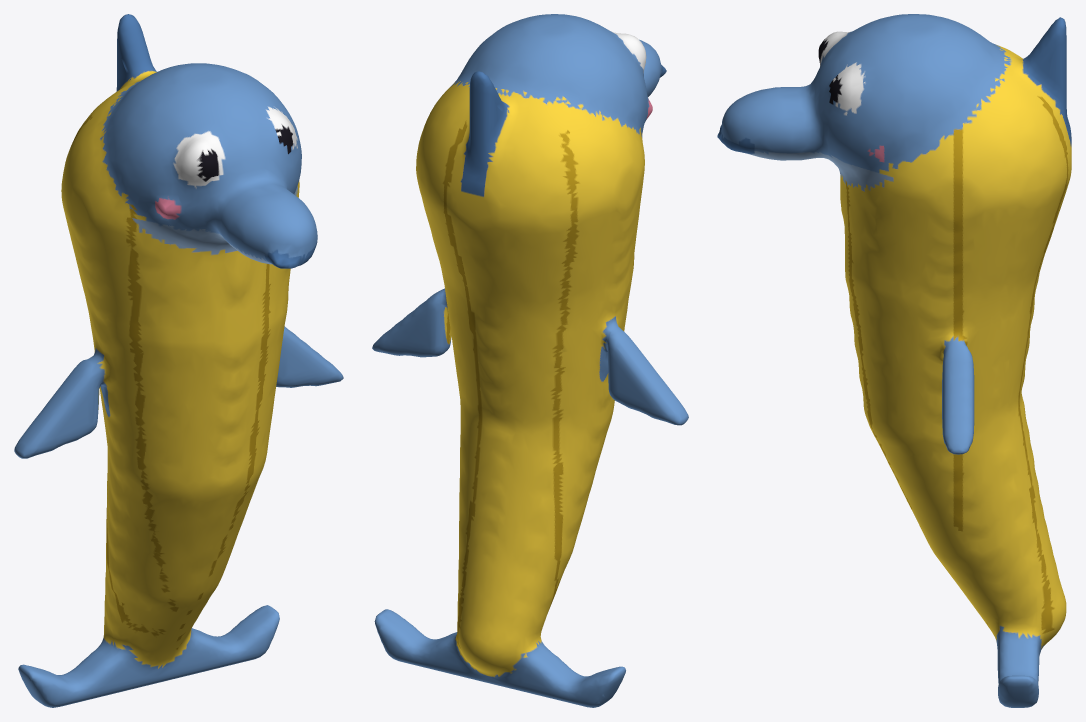
The model's file is SM_Bananita_Dolphinita.fbx.
3 views of the same model, side by side, from view 1: azimuth 30°, elevation 25°; view 2: azimuth 150°, elevation 25°; view 3: azimuth 270°, elevation 25° (orthographic). The views are drawn at different scales.
Parts seen in each view (by area): view 1: Bananita_Dolphinita; view 2: Bananita_Dolphinita; view 3: Bananita_Dolphinita.
Part boxes in pixels (<box>): Bananita_Dolphinita: <box>14,14,343,707</box>; Bananita_Dolphinita: <box>372,14,688,707</box>; Bananita_Dolphinita: <box>717,14,1071,707</box>.
Size of the model in its own units: 0.7973 by 1.53 by 0.7656.
Materials: 1 (1 with a texture image).
